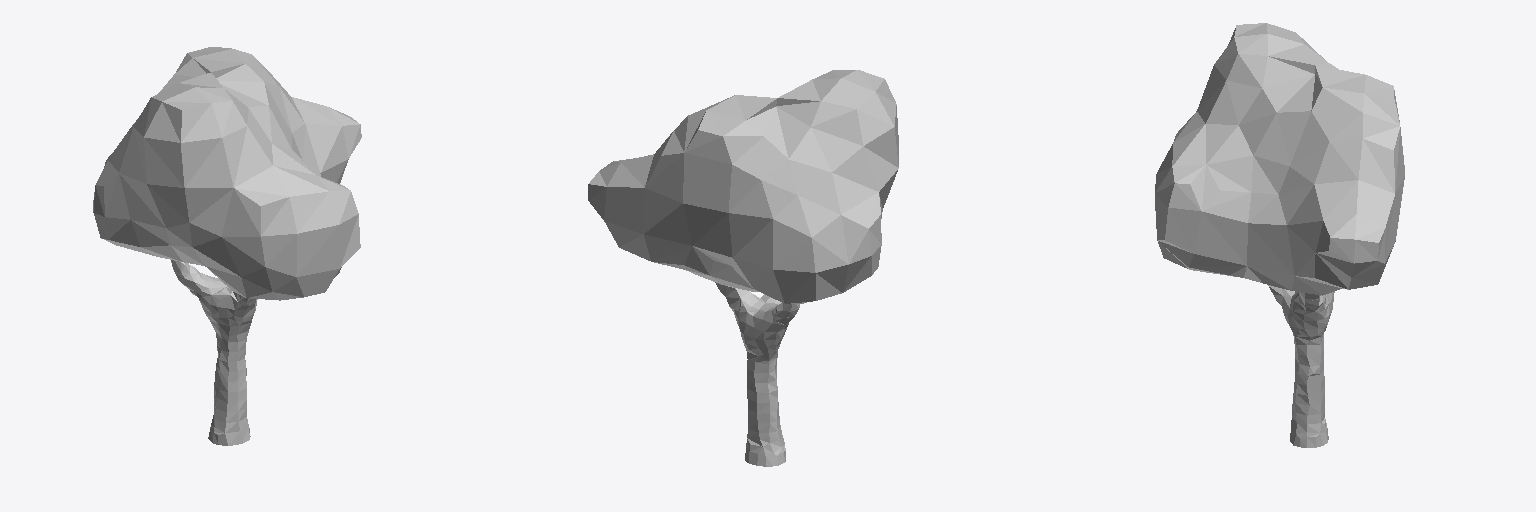
Rendered from tree4.obj.
The picture shows the model from 3 angles: view 1: azimuth 30°, elevation 25°; view 2: azimuth 150°, elevation 25°; view 3: azimuth 270°, elevation 25°; orthographic projection.
Visible parts, largest first — view 1: Tree2_Plane.011; view 2: Tree2_Plane.011; view 3: Tree2_Plane.011.
Boxes of the visible parts, <box> form: Tree2_Plane.011: <box>93,47,361,445</box>; Tree2_Plane.011: <box>588,70,898,466</box>; Tree2_Plane.011: <box>1155,23,1404,447</box>.
Bounding box in the file's own units: 7.35 × 10.01 × 6.